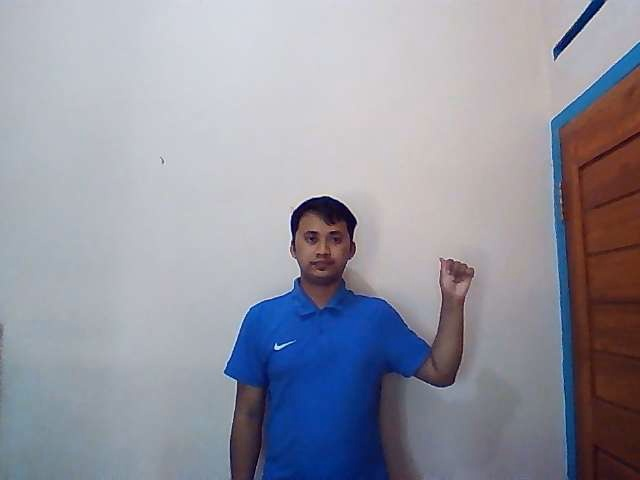A: (438, 256, 474, 299)
